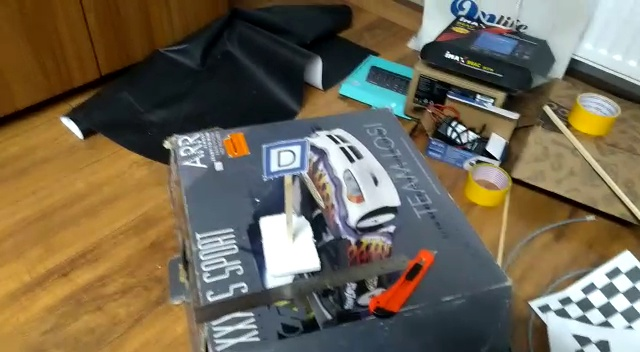durak: (262, 140, 310, 177)
